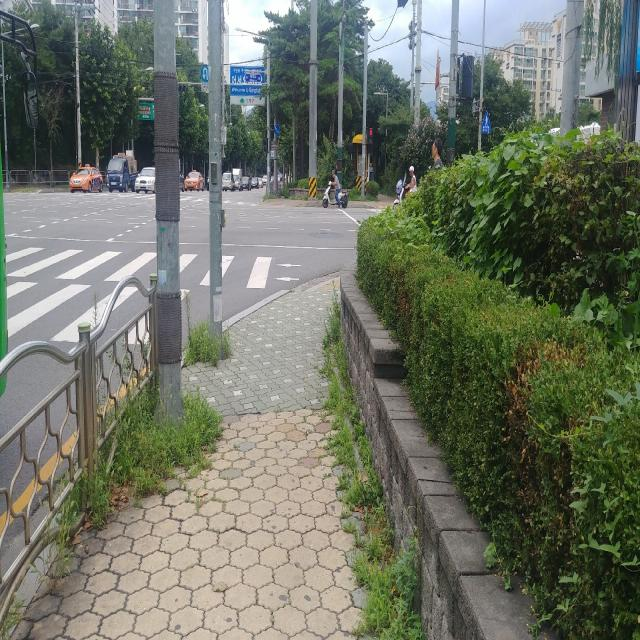빨간불: (366, 127, 374, 145)
횡단보도: (0, 234, 283, 348)
